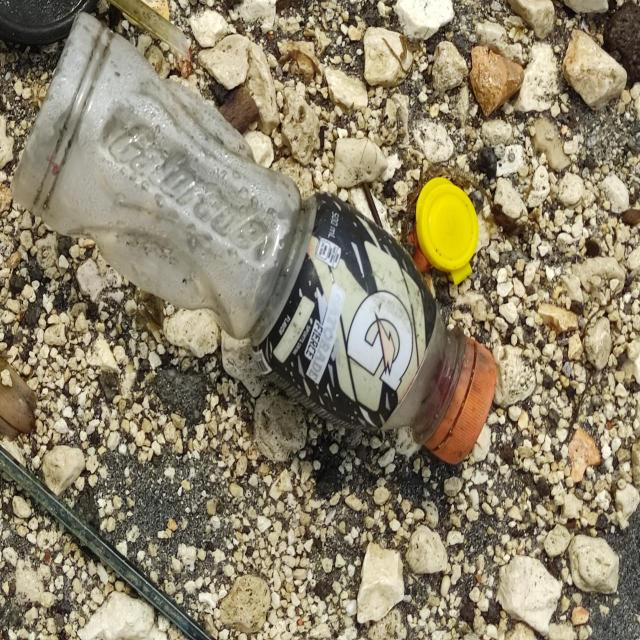plastic_waste: (11, 13, 497, 468), (1, 448, 215, 640)
